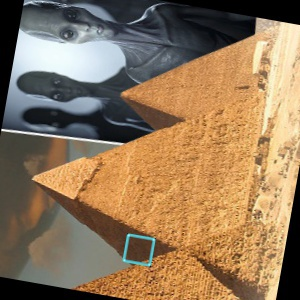square: (121, 232, 155, 268)
